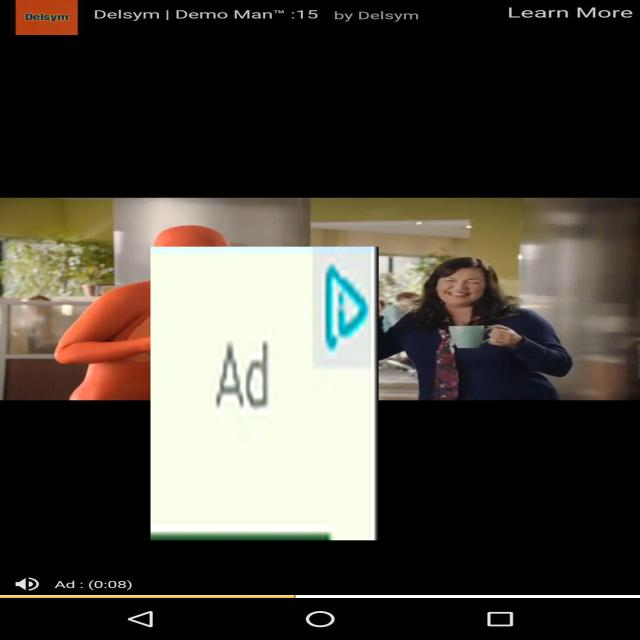sneaking: (150, 247, 378, 540)
